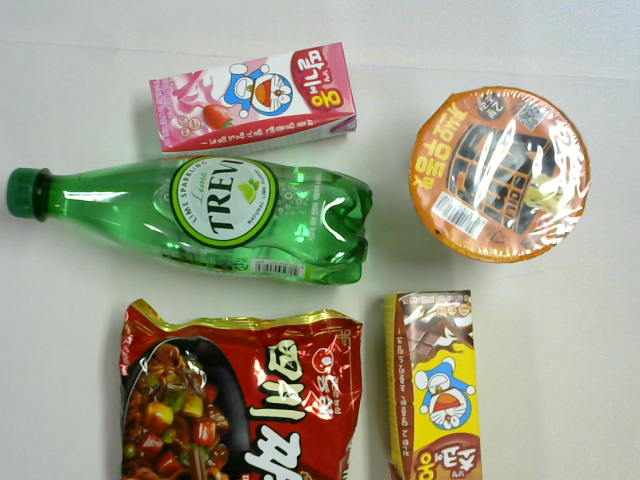Choco_E_Mong: (373, 287, 509, 480)
Sichuan_Chapaghetti: (112, 303, 353, 471)
Strawberry_E_Mong: (129, 39, 362, 150)
Treviraim_500ml: (6, 146, 374, 293)
Udongmini: (390, 85, 591, 264)
